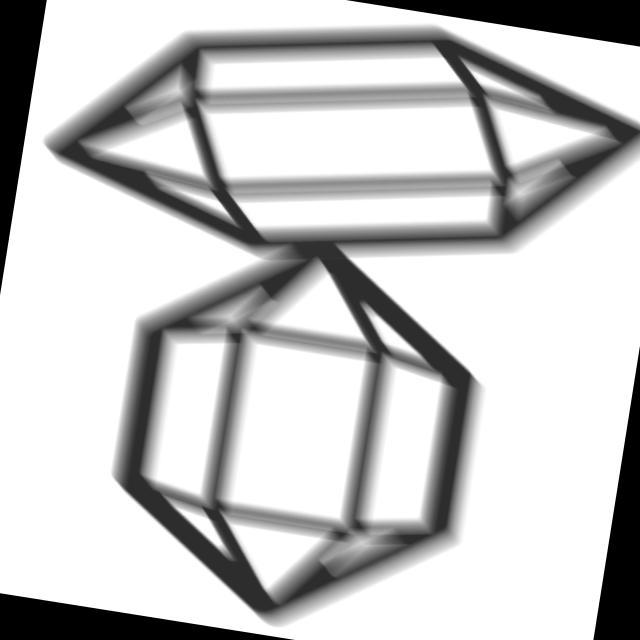crystal: (19, 1, 640, 330), (82, 198, 518, 640)
